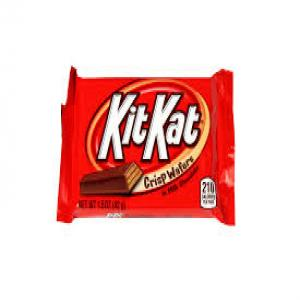kitkat: (48, 65, 237, 222)
